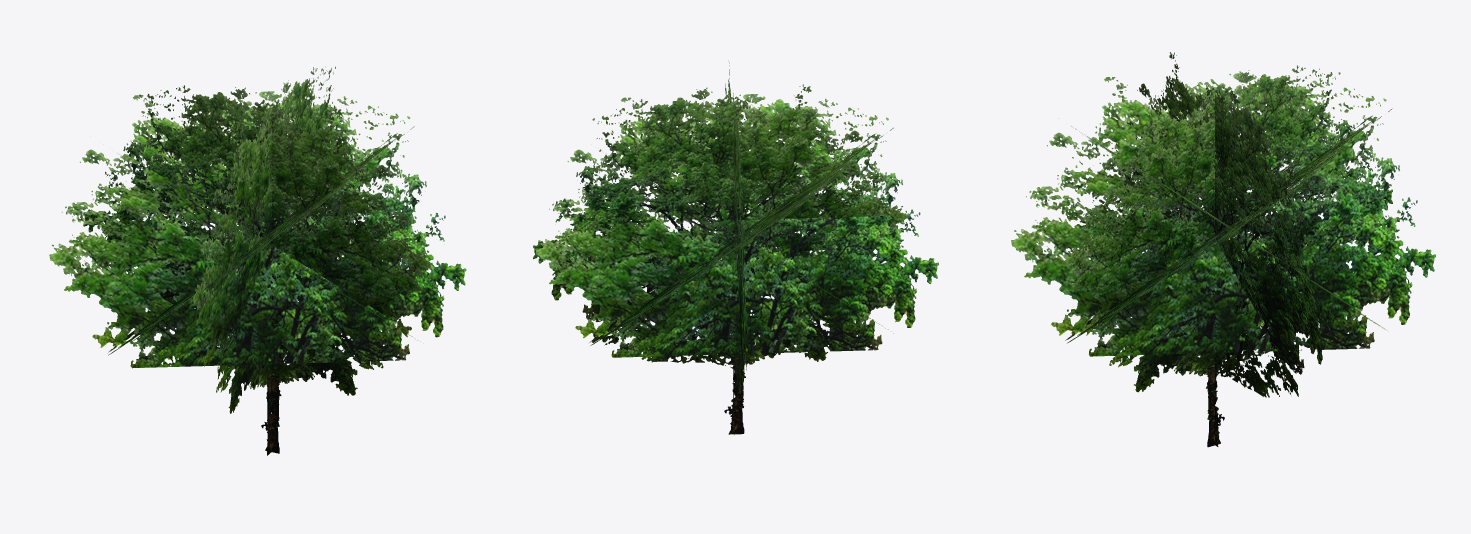
Rendered from tree3.gltf.
3 views of the same model, side by side, from view 1: azimuth 30°, elevation 25°; view 2: azimuth 150°, elevation 25°; view 3: azimuth 270°, elevation 25° (orthographic). The views are drawn at different scales.
Visible parts, largest first — view 1: Node_a5dd9d52-d08f-493b-b804-a7e167c7047d_0_0; view 2: Node_a5dd9d52-d08f-493b-b804-a7e167c7047d_0_0; view 3: Node_a5dd9d52-d08f-493b-b804-a7e167c7047d_0_0.
Boxes of the visible parts, box(x1,y1,x2,y2) form: Node_a5dd9d52-d08f-493b-b804-a7e167c7047d_0_0: box(49, 66, 466, 455); Node_a5dd9d52-d08f-493b-b804-a7e167c7047d_0_0: box(533, 60, 938, 434); Node_a5dd9d52-d08f-493b-b804-a7e167c7047d_0_0: box(1011, 52, 1435, 447).
Size of the model in its own units: 14 by 11.58 by 13.53.
1 material, 1 textured.
